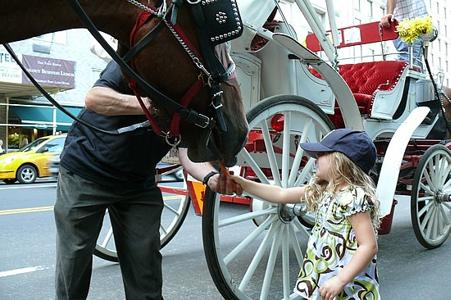person: (225, 130, 386, 299)
